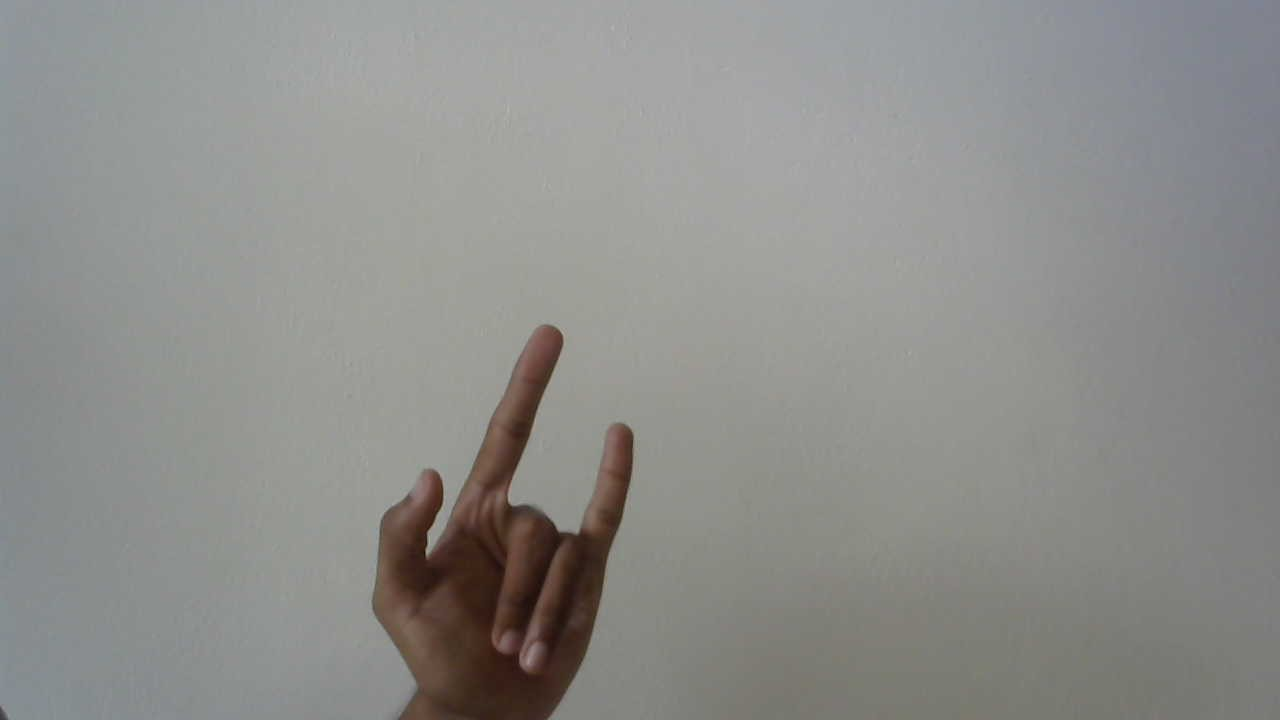iloveyou: (364, 312, 643, 720)
